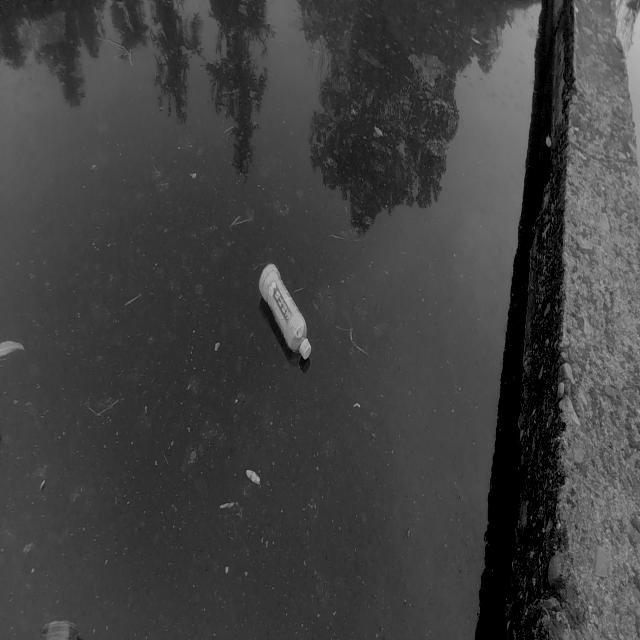bottle: (246, 245, 318, 368)
